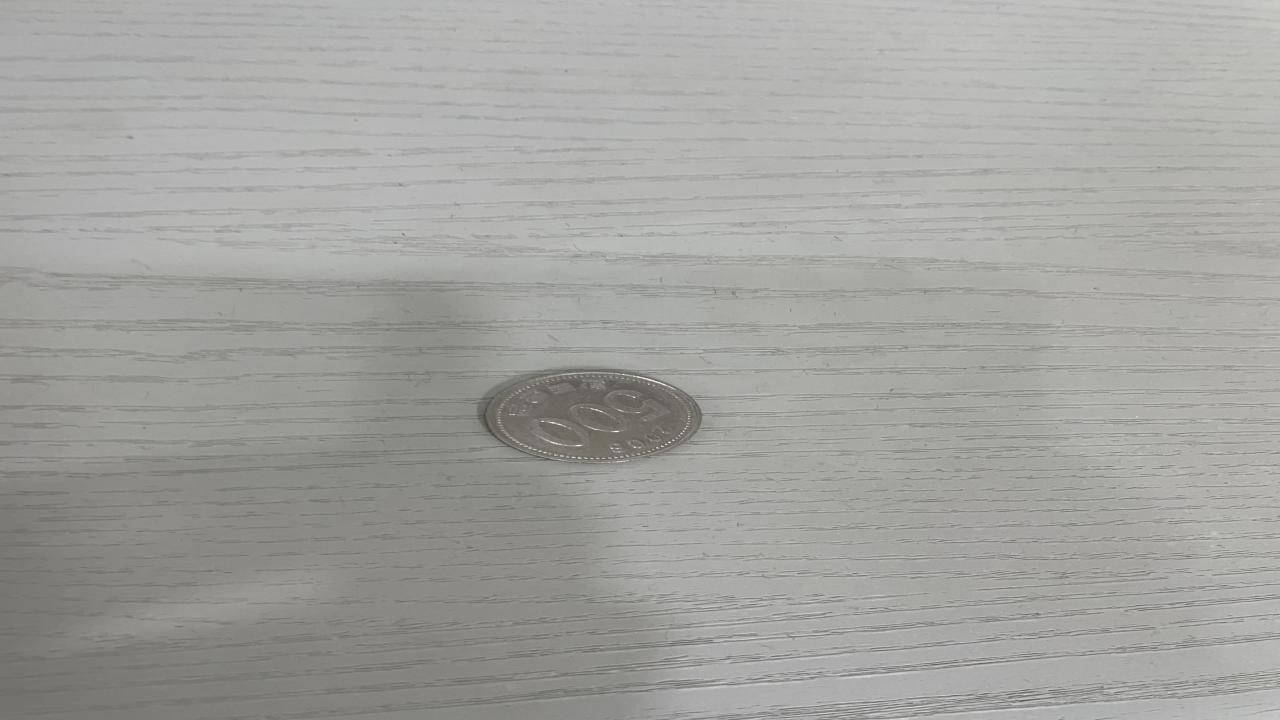coin: (481, 372, 701, 462)
